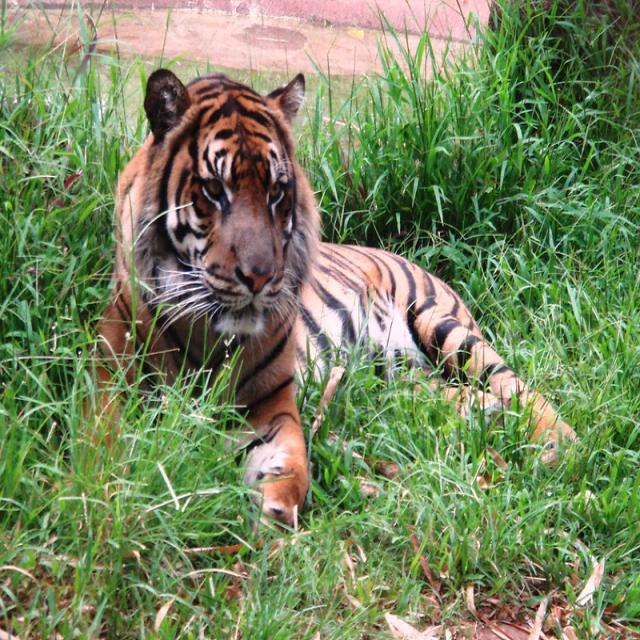Tiger: (71, 62, 584, 524)
